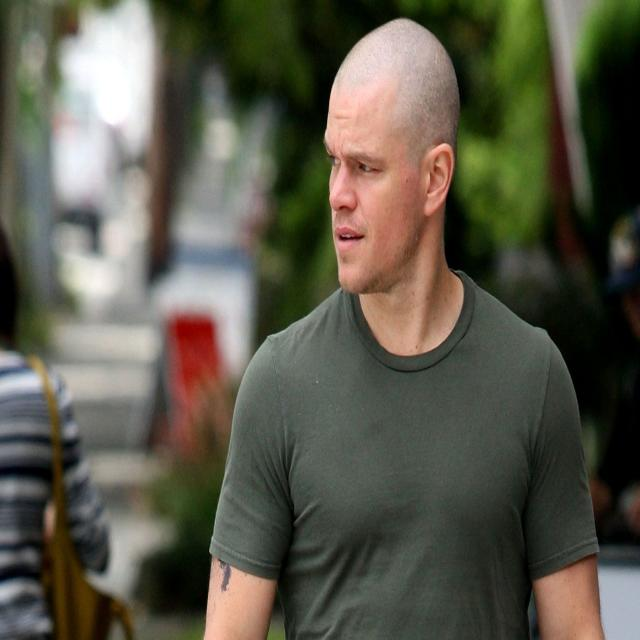no_helmet: (308, 3, 468, 191)
